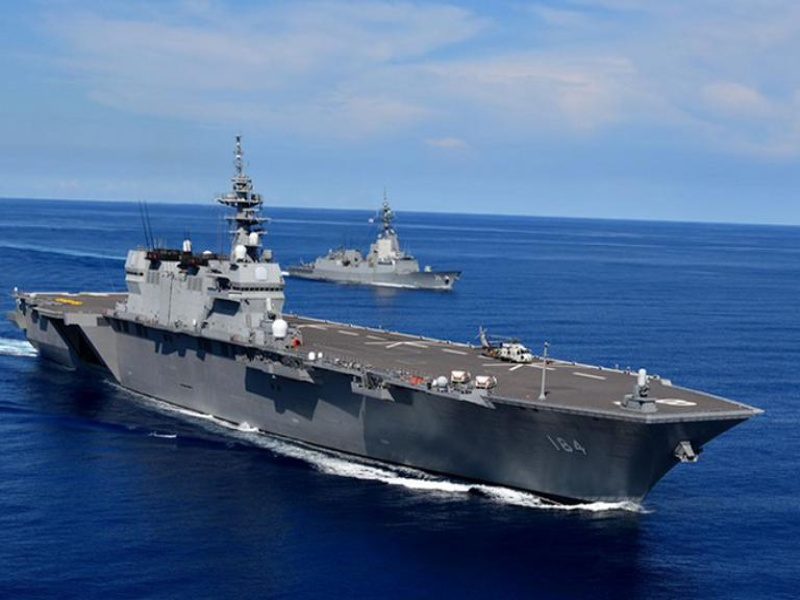carrier: (19, 241, 760, 496)
cruise: (289, 211, 465, 294)
